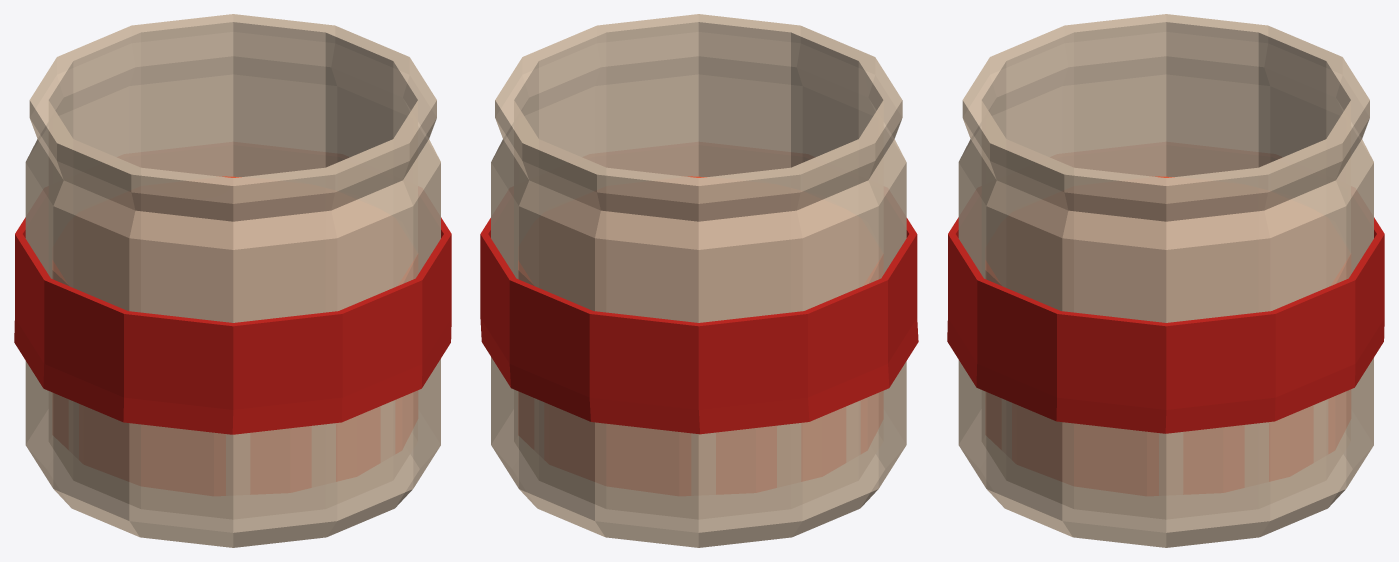
The model's file is JellyJar.fbx.
The picture shows the model from 3 angles, left to right: view 1: azimuth 30°, elevation 25°; view 2: azimuth 150°, elevation 25°; view 3: azimuth 270°, elevation 25°; orthographic projection.
Parts seen in each view (by area): view 1: Jar, Label, Jelly; view 2: Jar, Label, Jelly; view 3: Jar, Label, Jelly.
Part boxes in pixels (left/top/right/bottom): Jar: left=25, top=14, right=440, bottom=547; Label: left=14, top=217, right=451, bottom=434; Jelly: left=52, top=176, right=417, bottom=495; Jar: left=491, top=14, right=906, bottom=547; Label: left=480, top=217, right=918, bottom=434; Jelly: left=518, top=176, right=883, bottom=495; Jar: left=958, top=14, right=1373, bottom=547; Label: left=947, top=217, right=1384, bottom=433; Jelly: left=985, top=176, right=1350, bottom=495.
Size of the model in its own units: 211 by 196 by 211.
